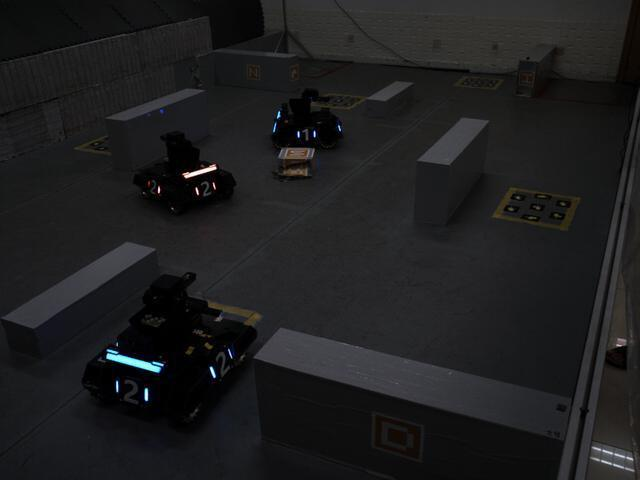armor: (107, 371, 155, 411), (203, 340, 237, 388), (190, 180, 222, 201), (143, 175, 163, 200), (295, 125, 318, 145)
